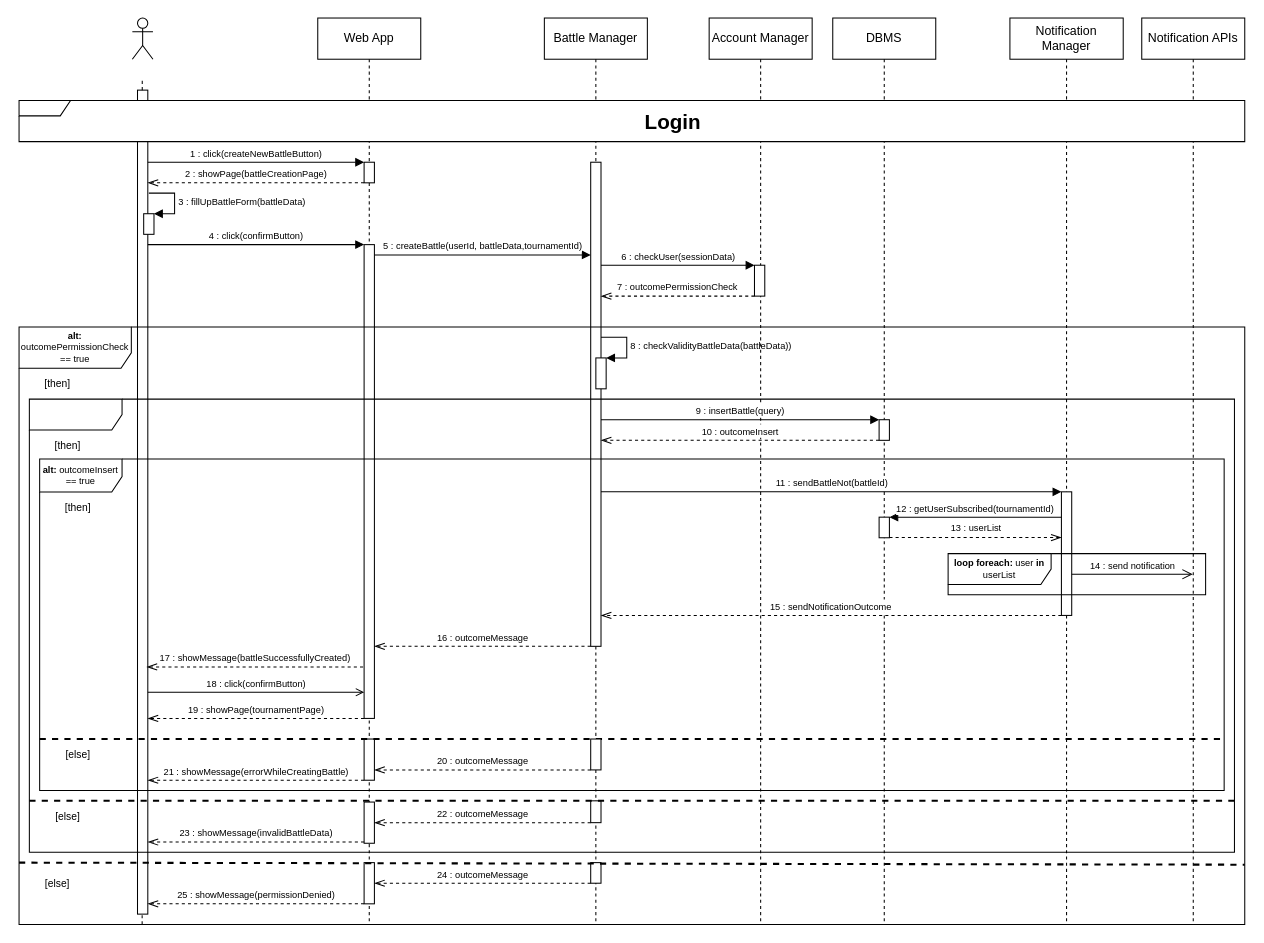
Image size: 1264x943. Some labels were removed from this diagram. Here are the shapes that lost their labels. From the top down, the box of each, then its label:
(131, 17, 153, 59): Educator
(18, 99, 1245, 142): ref
(28, 398, 1234, 852): alt: battleDataValid == true
